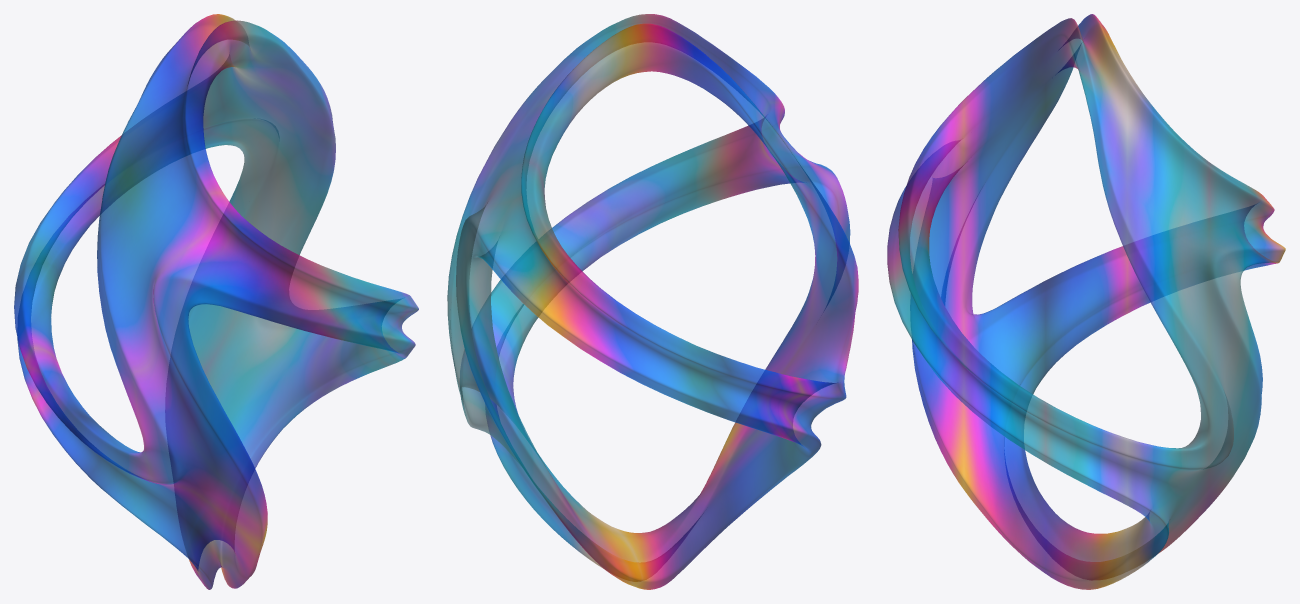
File: illustration-transformed.glb
The picture shows the model from 3 angles, left to right: view 1: azimuth 30°, elevation 25°; view 2: azimuth 150°, elevation 25°; view 3: azimuth 270°, elevation 25°; orthographic projection.
Visible parts, largest first — view 1: Hedra001; view 2: Hedra001; view 3: Hedra001.
Boxes of the visible parts, x1,y1,x2,y2 form: Hedra001: [14, 14, 418, 589]; Hedra001: [447, 14, 858, 589]; Hedra001: [887, 14, 1285, 589].
Bounding box in the file's own units: 1.84 × 2.88 × 1.84.
1 material, 1 textured.
